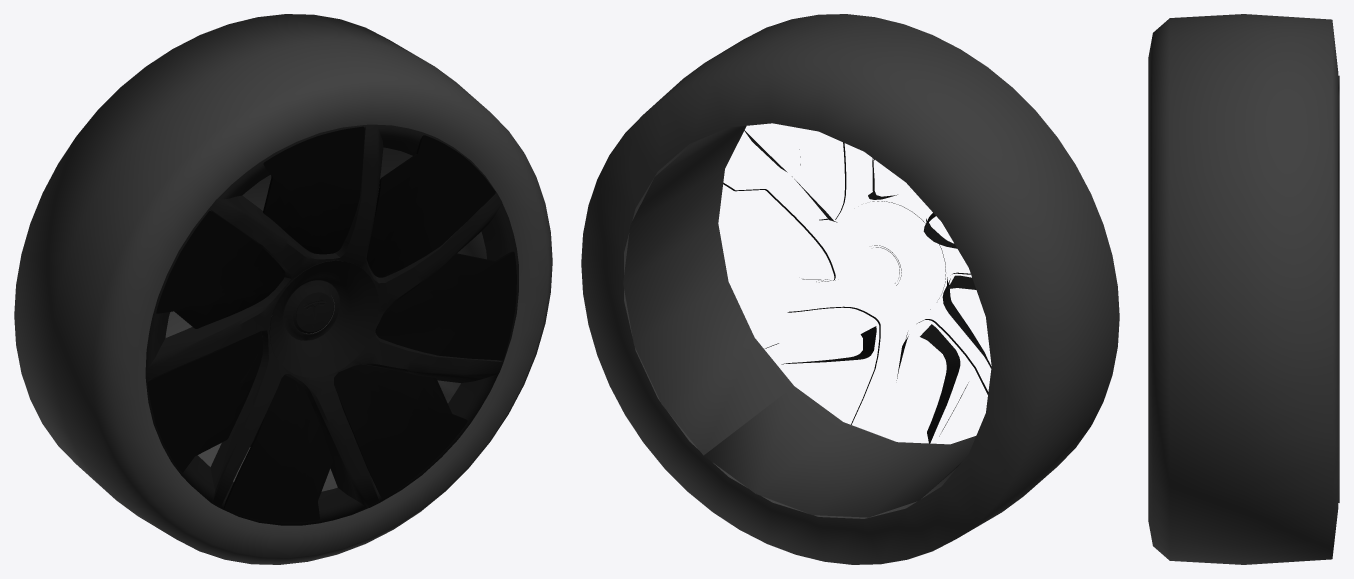
The model's file is Wheel_Cypress.glb.
3 views of the same model, side by side, from view 1: azimuth 30°, elevation 25°; view 2: azimuth 150°, elevation 25°; view 3: azimuth 270°, elevation 25° (orthographic). The views are drawn at different scales.
Visible parts, largest first — view 1: Wheel_Cypress2; view 2: Wheel_Cypress2; view 3: Wheel_Cypress2.
Boxes of the visible parts, x1,y1,x2,y2 form: Wheel_Cypress2: [14, 14, 552, 564]; Wheel_Cypress2: [581, 14, 1119, 564]; Wheel_Cypress2: [1148, 14, 1339, 564].
Bounding box in the file's own units: 0.7408 × 0.7394 × 0.2575.
2 materials, 1 textured.
